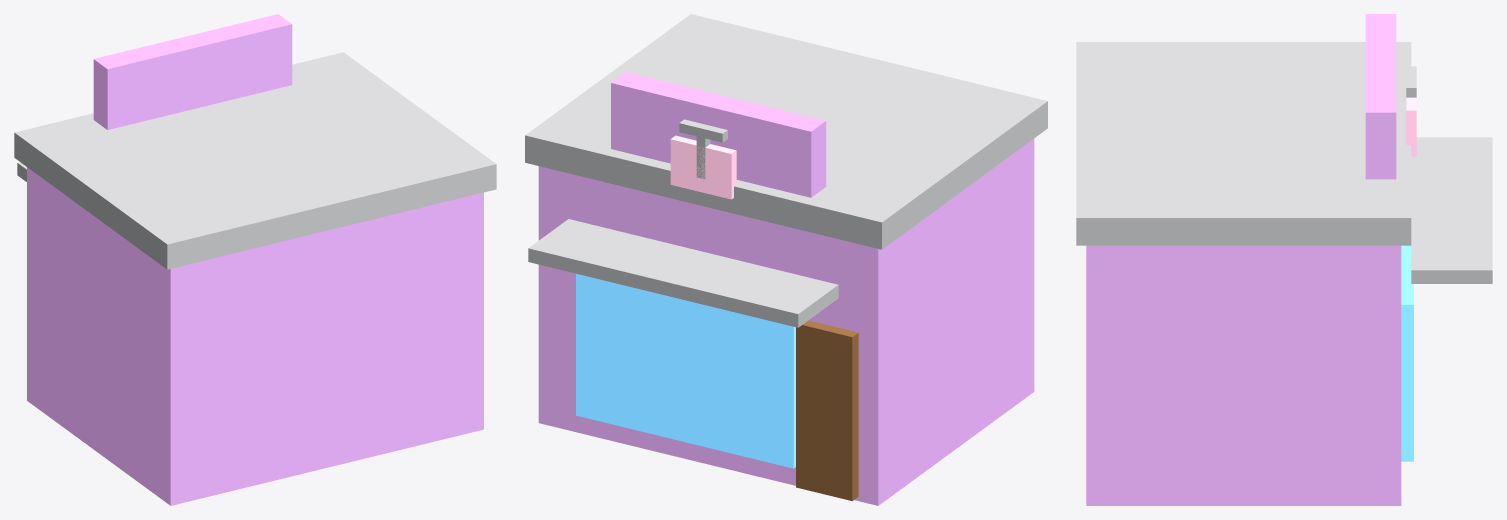
The model's file is clothing.glb.
The picture shows the model from 3 angles, left to right: view 1: azimuth 30°, elevation 25°; view 2: azimuth 150°, elevation 25°; view 3: azimuth 270°, elevation 25°; orthographic projection. The views are drawn at different scales.
Visible parts, largest first — view 1: clothing; view 2: clothing; view 3: clothing.
Part boxes in pixels (x1,y1,x2,y2): clothing: (14,14,496,505); clothing: (525,14,1047,505); clothing: (1076,14,1492,505).
Bounding box in the file's own units: 0.82 × 0.78 × 0.82.
